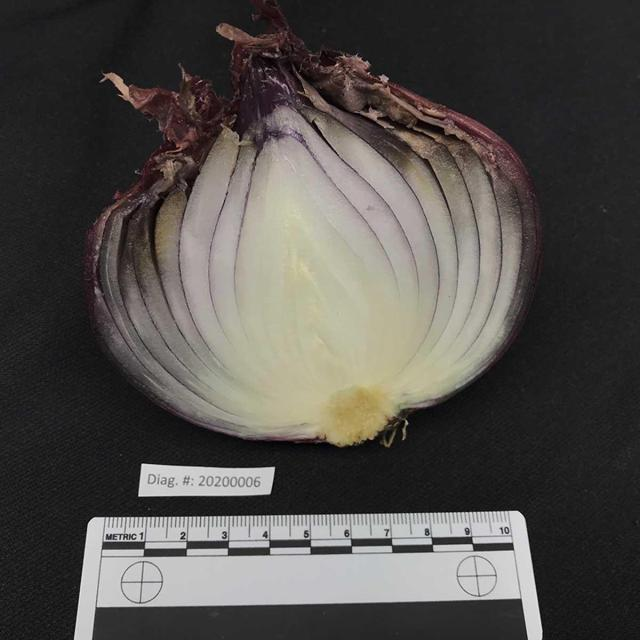Onion: (75, 23, 550, 458)
